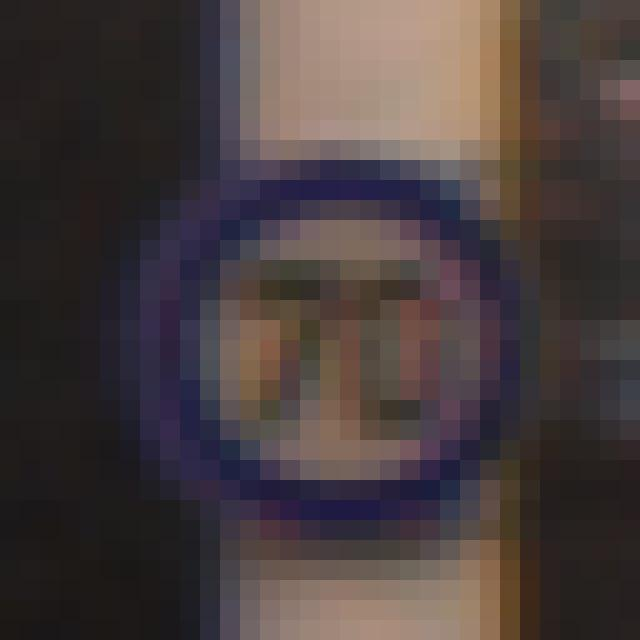SPEED LIMIT 70: (134, 163, 512, 547)
